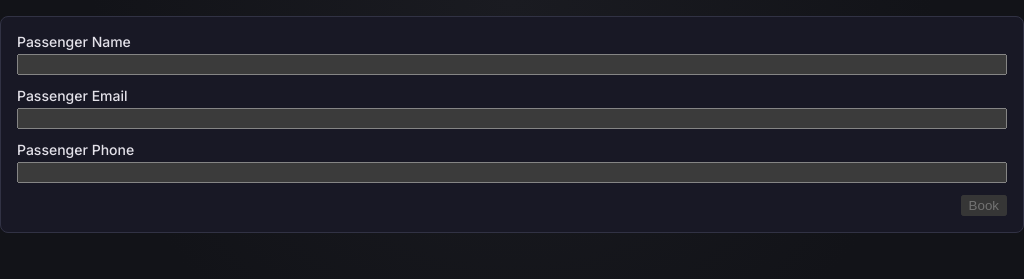
Scenario: shows the error and keeps values when submit fails
Type "Ada Lovelace" into the field with test id "booking-name" at (512, 64), box [17,54,1007,75]
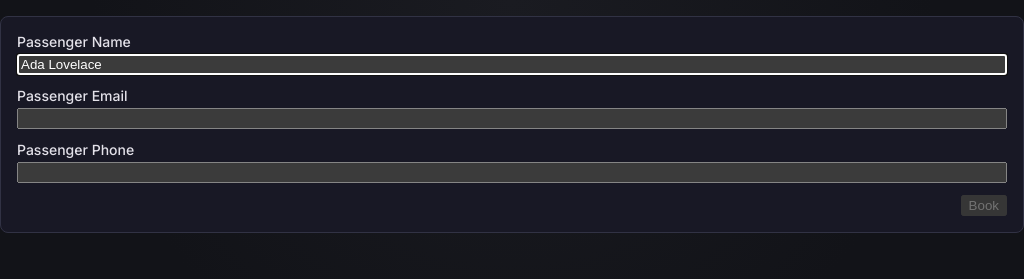
Type "ada@example.com" into the field with test id "booking-email" at (512, 118), box [17,108,1007,129]
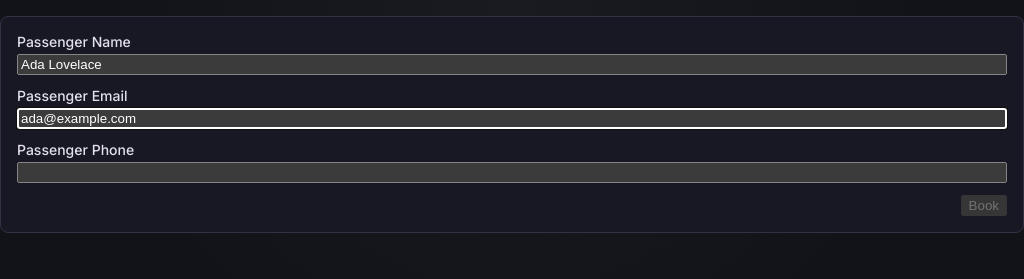
Type "+34 600 000 001" into the field with test id "booking-phone" at (512, 172), box [17,162,1007,183]
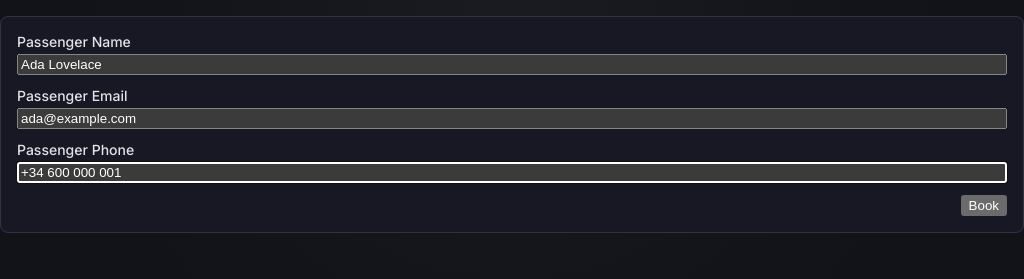
Click the button with test id "booking-submit" at (984, 206), box [961,195,1007,216]
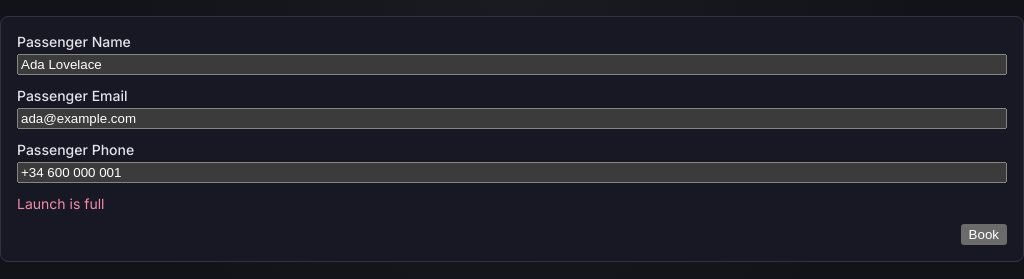
expect the message with test id "booking-form-error" reads "Launch is full": met, box [17,195,104,212]
